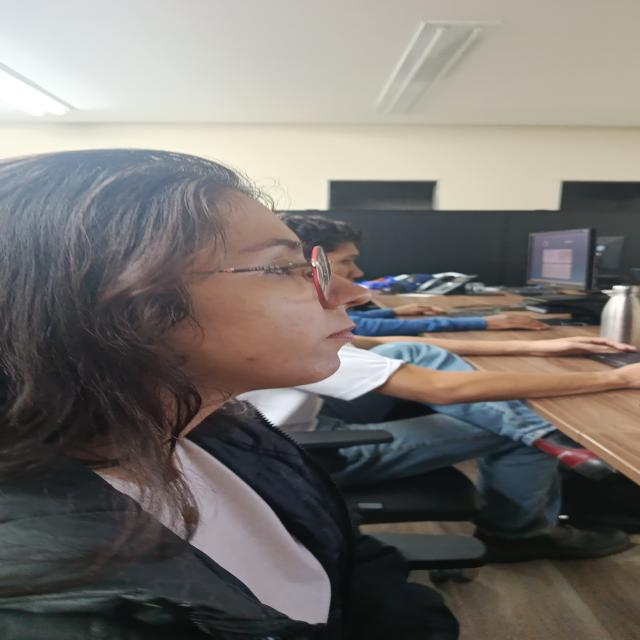sem_oculos: (201, 246, 331, 302)
